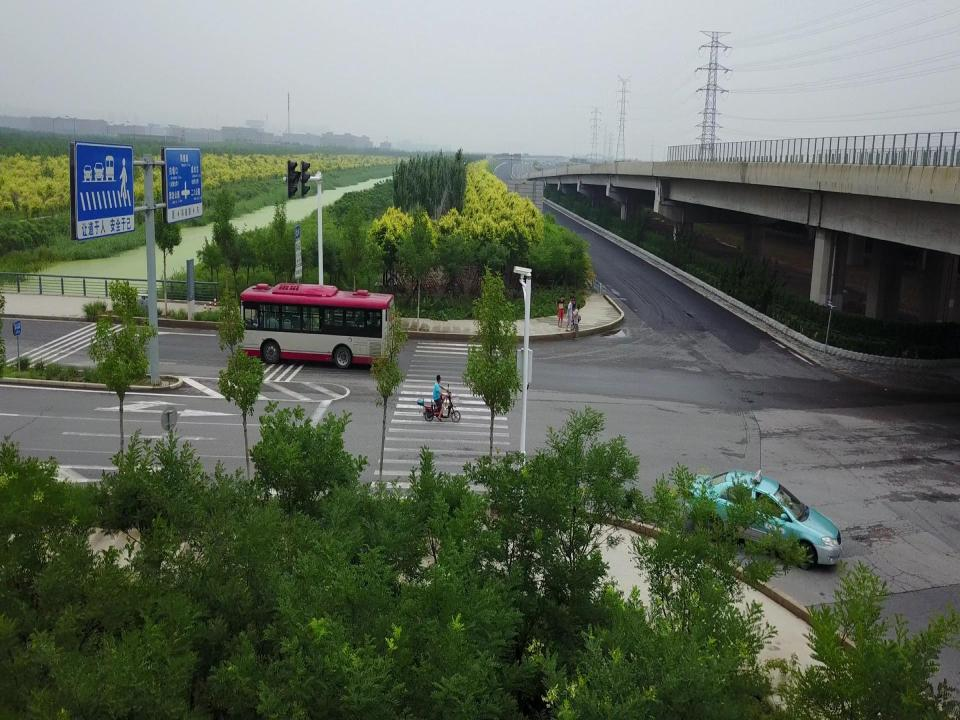bus: (239, 281, 395, 369)
car: (684, 469, 842, 570)
